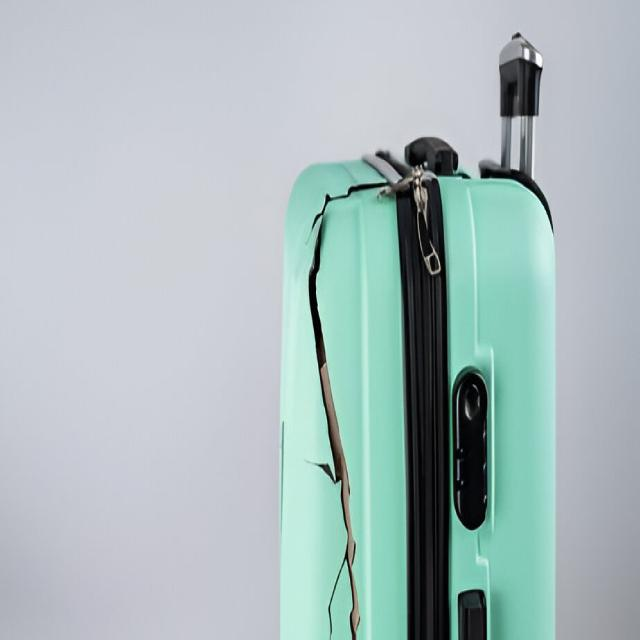Damage-bag: (309, 182, 383, 640), (280, 423, 283, 523)
